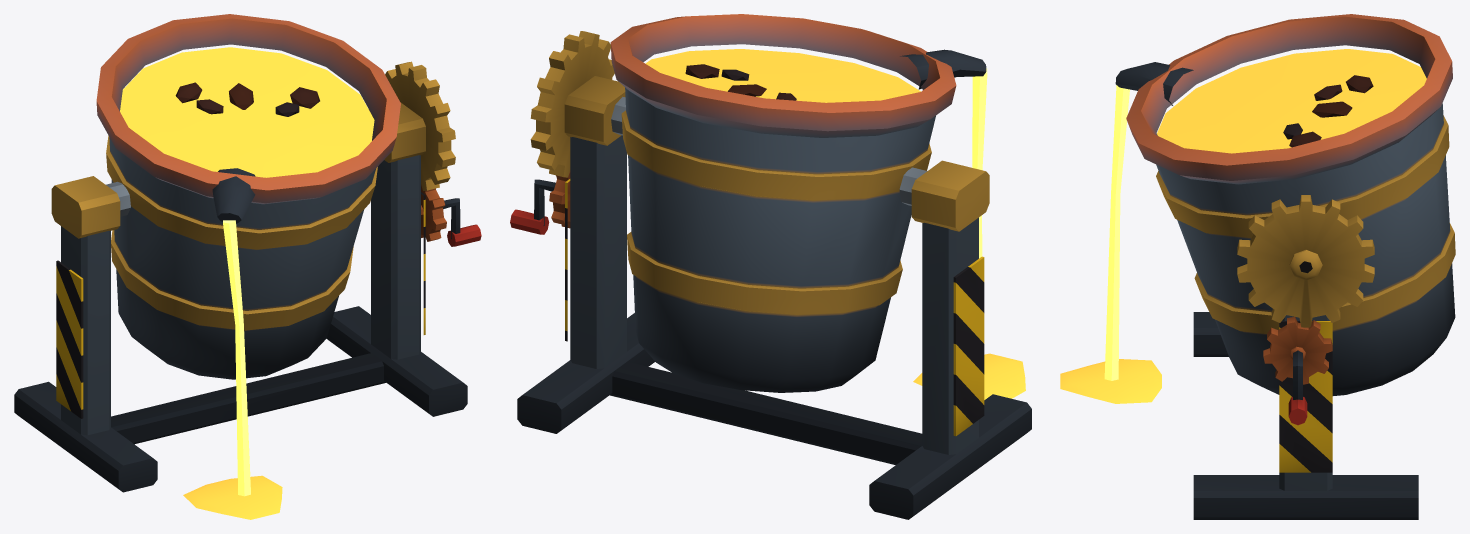
The model's file is lava_crucible.glb.
3 views of the same model, side by side, from view 1: azimuth 30°, elevation 25°; view 2: azimuth 150°, elevation 25°; view 3: azimuth 270°, elevation 25° (orthographic). The views are drawn at different scales.
Visible parts, largest first — view 1: lava_crucible; view 2: lava_crucible; view 3: lava_crucible.
Part boxes in pixels (box(x1,y1,x2,y2)): lava_crucible: box(14, 14, 481, 519); lava_crucible: box(510, 14, 1031, 519); lava_crucible: box(1060, 14, 1455, 519).
Size of the model in its own units: 1.89 by 1.53 by 1.48.
